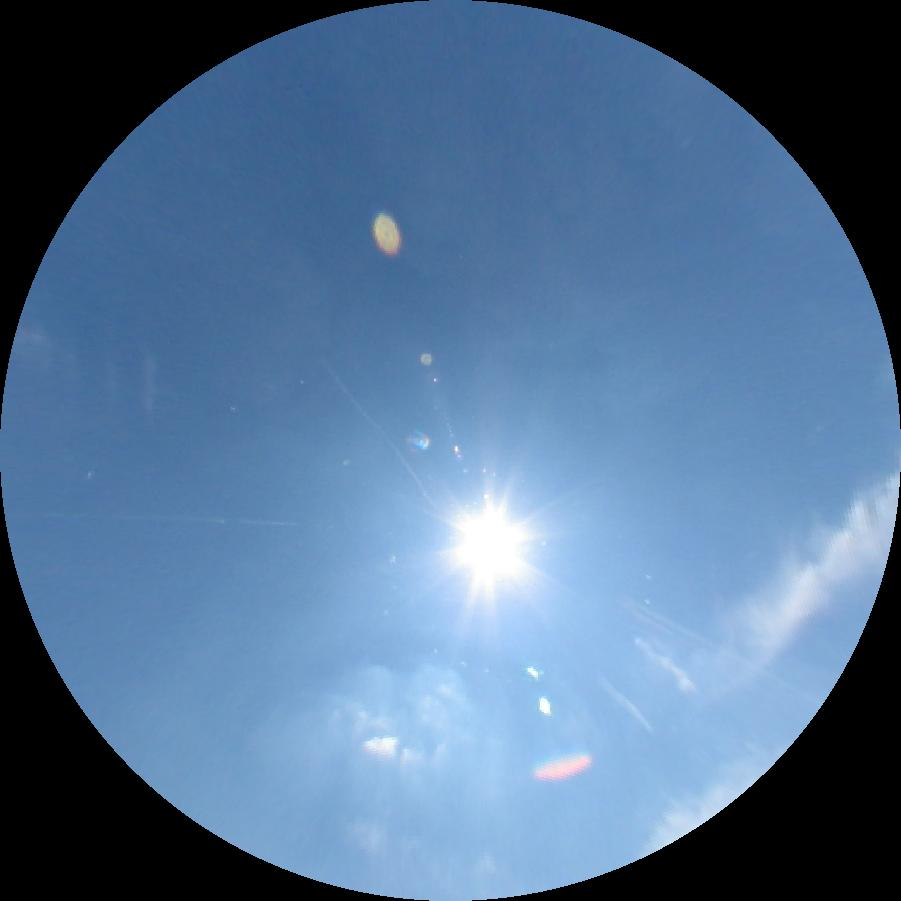contrail old: (319, 356, 434, 506), (596, 676, 653, 736)
contrail veryold: (746, 470, 898, 665)
parasite: (643, 607, 821, 708), (5, 510, 299, 525), (636, 613, 714, 659)
sun: (454, 495, 525, 588)
